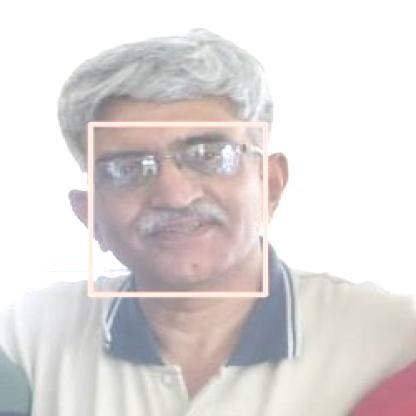without_mask: (90, 123, 264, 294)
